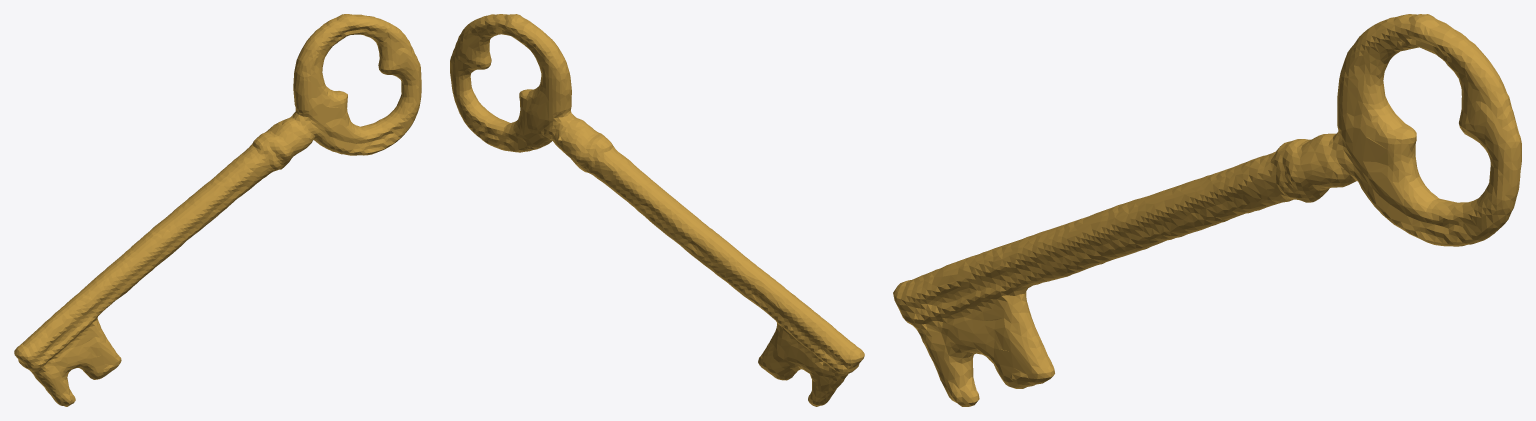
File: key_semantic.glb
3 views of the same model, side by side, from view 1: azimuth 30°, elevation 25°; view 2: azimuth 150°, elevation 25°; view 3: azimuth 330°, elevation 25° (orthographic). The views are drawn at different scales.
Parts seen in each view (by area): view 1: RoomOne_Key; view 2: RoomOne_Key; view 3: RoomOne_Key.
Boxes of the visible parts, <box> form: RoomOne_Key: <box>14,14,421,406</box>; RoomOne_Key: <box>450,14,864,406</box>; RoomOne_Key: <box>893,14,1521,406</box>.
Size of the model in its own units: 2 by 1.5 by 0.1928.
